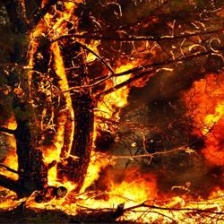fire: (49, 176, 224, 223), (48, 1, 75, 92), (105, 69, 132, 112), (45, 125, 62, 176), (197, 104, 224, 136), (5, 138, 19, 181)
